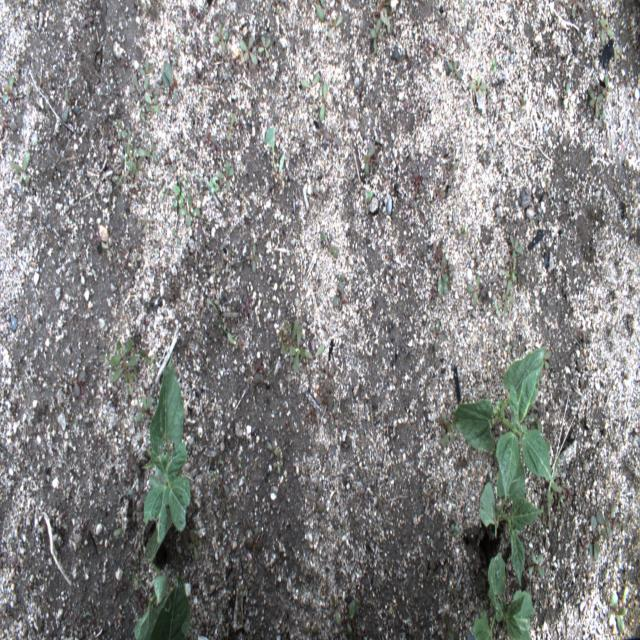crop: (450, 344, 554, 502), (477, 432, 543, 592), (142, 358, 192, 561), (471, 552, 535, 639), (132, 572, 190, 640)
weed: (117, 543, 150, 607), (108, 338, 138, 396), (111, 120, 129, 193), (335, 596, 361, 638), (160, 61, 178, 106), (290, 324, 305, 375), (439, 411, 458, 450), (608, 593, 626, 634), (178, 195, 201, 227), (436, 257, 454, 296), (362, 143, 382, 178), (0, 74, 18, 108), (369, 18, 384, 58), (216, 161, 235, 192), (319, 230, 338, 260), (136, 141, 160, 164), (587, 85, 603, 119), (501, 278, 516, 314), (239, 35, 257, 64), (465, 274, 481, 306), (14, 152, 30, 184), (127, 72, 144, 102), (433, 317, 447, 353), (135, 395, 153, 422), (212, 21, 228, 51), (188, 529, 202, 563), (529, 551, 545, 580), (468, 76, 488, 99), (327, 13, 344, 39), (111, 118, 131, 140), (597, 511, 612, 540), (138, 60, 152, 91), (564, 82, 576, 118), (126, 142, 138, 174), (319, 81, 328, 123), (299, 72, 320, 90), (172, 185, 187, 210), (599, 17, 613, 43), (307, 342, 325, 362), (258, 33, 271, 59), (448, 59, 462, 81), (602, 73, 613, 96), (612, 41, 624, 62), (208, 174, 220, 194), (364, 190, 374, 203), (492, 58, 496, 74)
